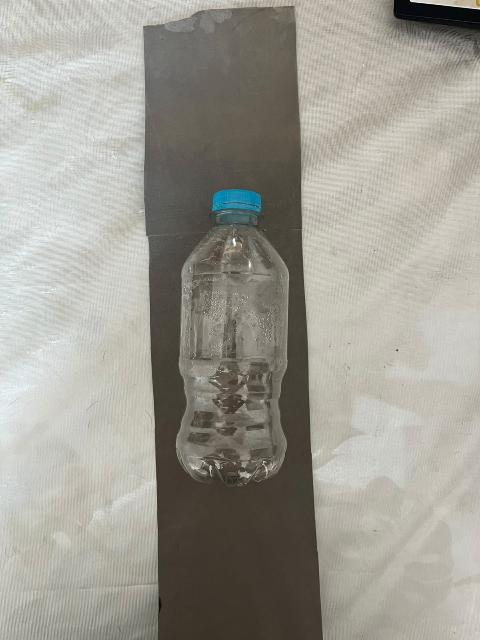PET: (144, 168, 350, 539)
